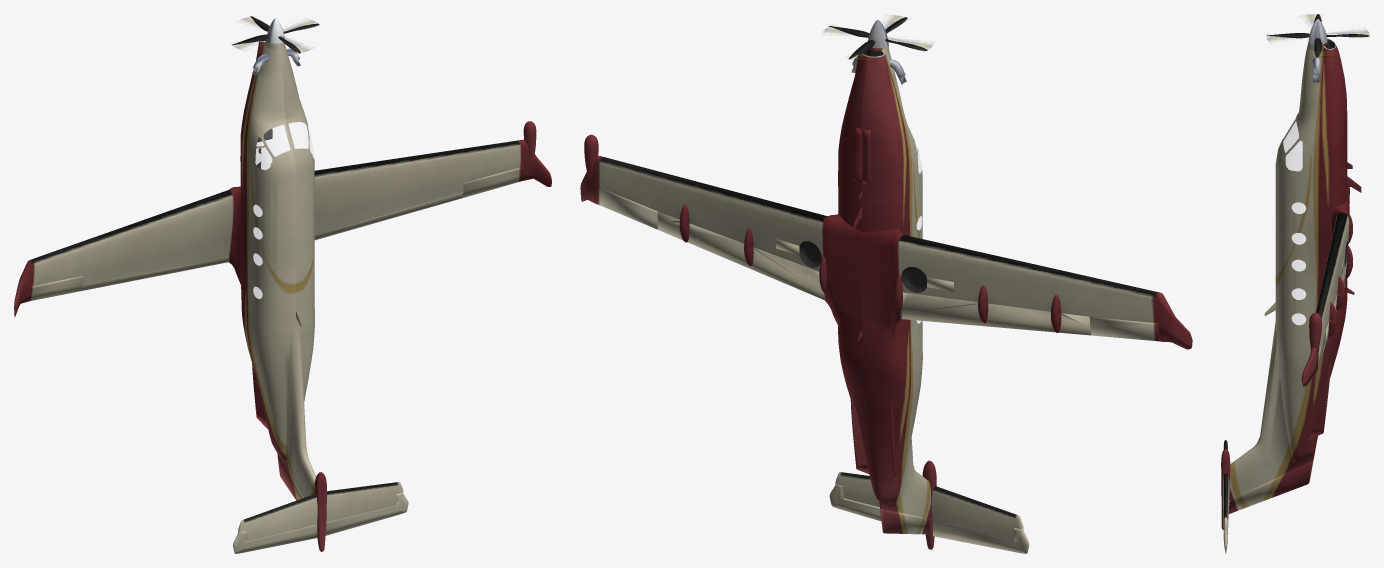
3 renders of one model, left to right at view 1: azimuth 30°, elevation 25°; view 2: azimuth 150°, elevation 25°; view 3: azimuth 270°, elevation 25°, orthographic. The views are drawn at different scales.
Visible parts, largest first — view 1: ailes, fuselage, ailes2, profondeur, baie, vitres, voletD, aileronD, voletG, porte, aileronG, ajout; view 2: ailes, fuselage, voletG, voletD, ailes2, profondeur, aileronG, baie, trous, aileronD, direction, ailes3; view 3: fuselage, ailes, direction, vitres, ailes3, helice, voletD, bosse, ailes2, ajout, bol, propblur (+1 smaller).
Boxes of the visible parts, <box> form: ailes: <box>14,139,551,317</box>; fuselage: <box>240,40,316,497</box>; ailes2: <box>238,482,403,541</box>; profondeur: <box>233,492,408,553</box>; baie: <box>240,265,276,329</box>; vitres: <box>253,122,313,265</box>; voletD: <box>314,192,463,240</box>; aileronD: <box>462,166,523,197</box>; voletG: <box>82,257,228,290</box>; porte: <box>240,166,276,203</box>; aileronG: <box>29,275,83,301</box>; ajout: <box>314,472,326,551</box>; ailes: <box>580,156,1192,349</box>; fuselage: <box>838,44,930,517</box>; voletG: <box>894,292,1090,335</box>; voletD: <box>657,211,827,299</box>; ailes2: <box>835,472,1023,539</box>; profondeur: <box>829,484,1029,553</box>; aileronG: <box>1090,317,1158,341</box>; baie: <box>894,319,922,368</box>; trous: <box>597,49,1089,534</box>; aileronD: <box>597,187,657,229</box>; direction: <box>880,509,929,534</box>; ailes3: <box>850,390,895,480</box>; fuselage: <box>1229,38,1347,499</box>; ailes: <box>1301,187,1352,386</box>; direction: <box>1228,460,1313,513</box>; vitres: <box>1283,118,1305,324</box>; ailes3: <box>1309,361,1330,439</box>; helice: <box>1267,14,1369,57</box>; voletD: <box>1325,262,1352,346</box>; bosse: <box>1309,312,1321,352</box>; ailes2: <box>1223,440,1229,530</box>; ajout: <box>1221,449,1230,529</box>; bol: <box>1308,19,1327,44</box>; propblur: <box>1267,15,1368,56</box>.
Size of the model in its own units: 16.21 by 14.39 by 3.8.
3 materials, 2 textured.
